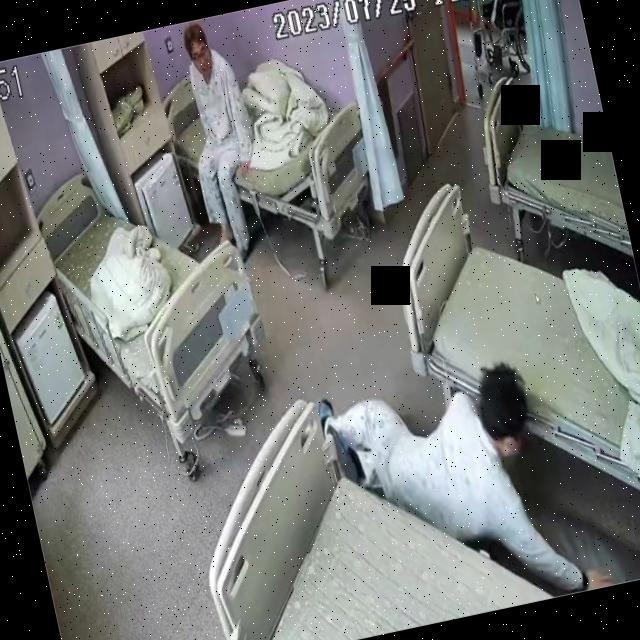bed: (378, 143, 640, 541), (188, 354, 548, 640), (28, 136, 282, 424), (160, 37, 373, 228), (475, 57, 631, 268)
fall: (312, 342, 614, 638)
patient: (314, 344, 614, 638), (166, 12, 278, 254)
sit: (164, 12, 278, 252)
